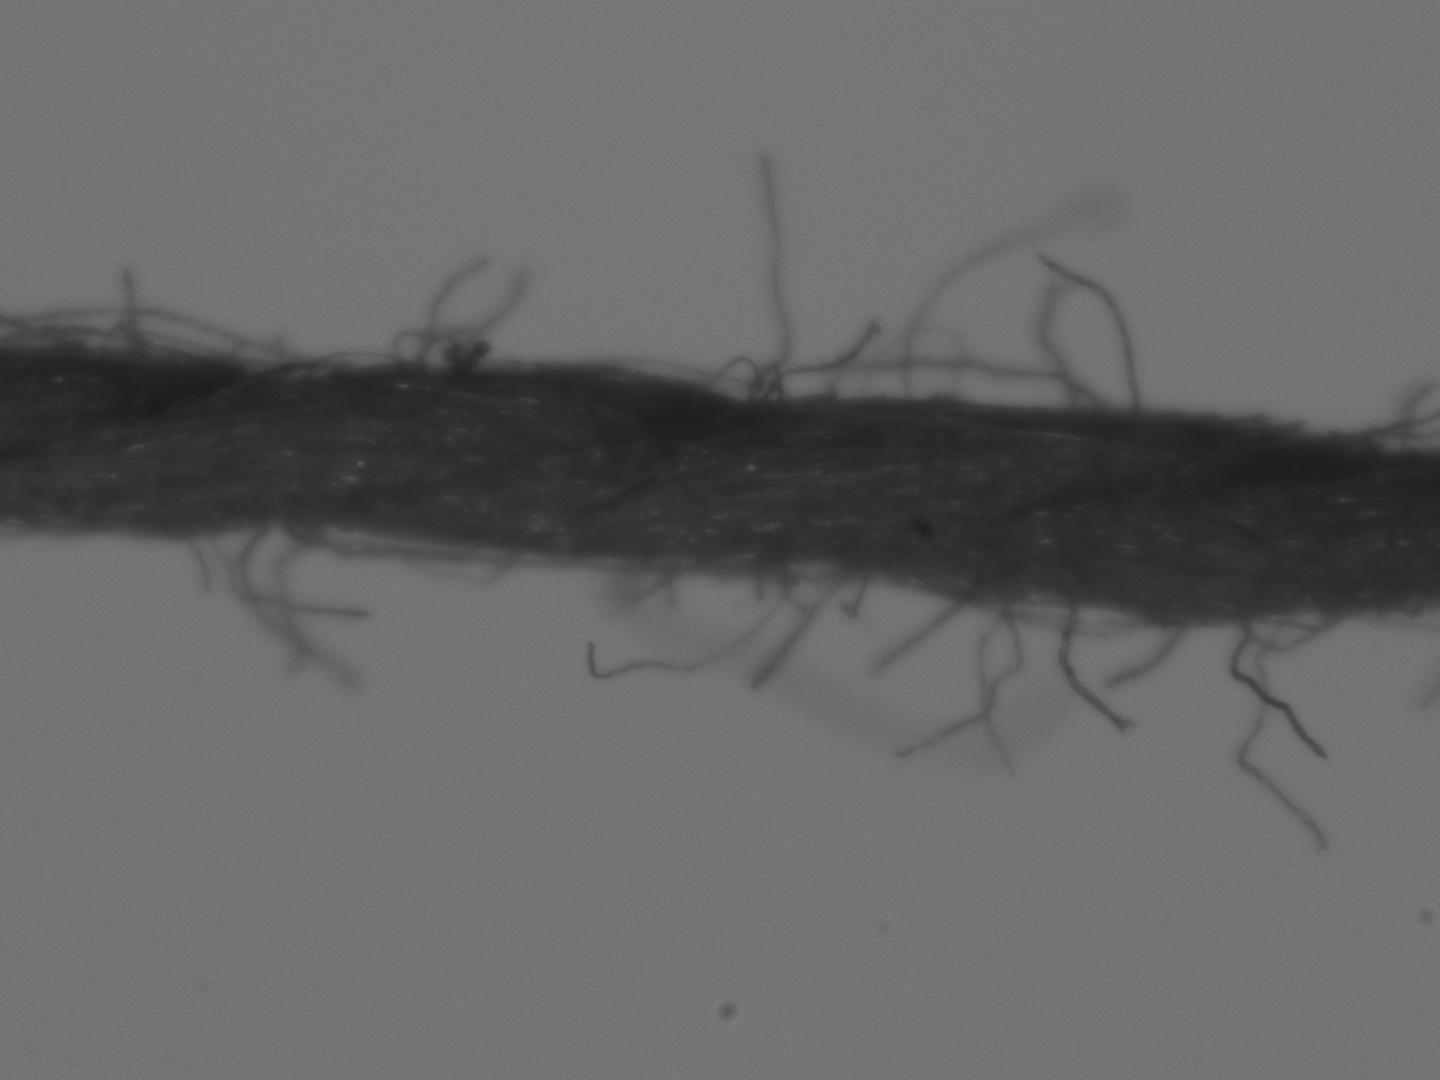loop_fiber: (604, 324, 1111, 417), (207, 524, 366, 692), (1, 307, 331, 374), (278, 526, 684, 567), (743, 560, 850, 685), (1356, 377, 1438, 462), (1226, 605, 1352, 657), (279, 348, 423, 385), (440, 335, 494, 379)
protruding_fiber: (900, 195, 1125, 404), (583, 563, 801, 683), (881, 594, 1024, 759), (1235, 618, 1325, 853), (383, 258, 531, 374), (1041, 254, 1145, 416), (1227, 606, 1331, 762), (1056, 596, 1136, 734), (405, 256, 490, 373), (755, 150, 791, 402), (886, 593, 972, 674), (976, 598, 1011, 777), (1037, 288, 1078, 414), (1107, 624, 1185, 685), (822, 317, 880, 396), (118, 258, 145, 356), (179, 537, 210, 593), (844, 571, 872, 618)
